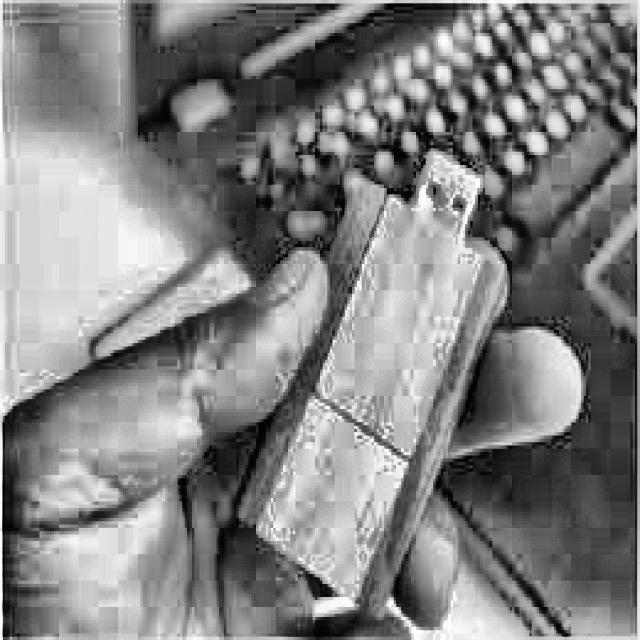Mug: (218, 118, 543, 624)
